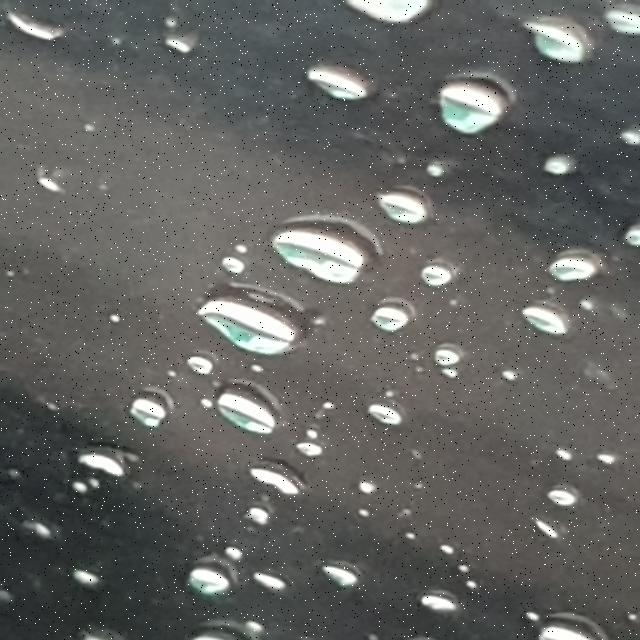raindrop: (256, 217, 402, 286), (192, 292, 322, 363), (290, 58, 416, 115), (428, 68, 525, 131), (226, 456, 320, 509), (524, 4, 592, 67), (210, 394, 288, 439), (370, 191, 452, 232), (516, 141, 592, 183), (339, 0, 446, 29), (498, 513, 592, 546), (598, 111, 640, 181), (184, 354, 251, 397), (355, 301, 430, 339), (511, 303, 586, 339), (540, 233, 592, 284), (210, 248, 278, 287), (166, 32, 233, 70), (303, 562, 377, 596), (59, 450, 142, 480), (392, 594, 474, 624), (178, 561, 241, 597), (0, 518, 65, 550), (506, 617, 591, 640), (58, 563, 122, 593), (524, 480, 588, 510), (432, 340, 499, 368), (601, 0, 640, 47), (238, 492, 298, 522), (117, 392, 183, 417), (356, 406, 426, 428), (613, 213, 640, 270), (581, 439, 627, 472), (254, 569, 299, 599), (410, 257, 454, 287), (549, 440, 580, 465)
